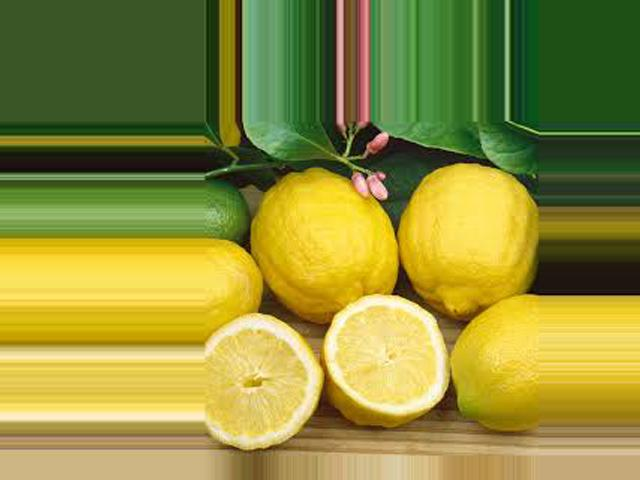lemon: (429, 279, 540, 426)
